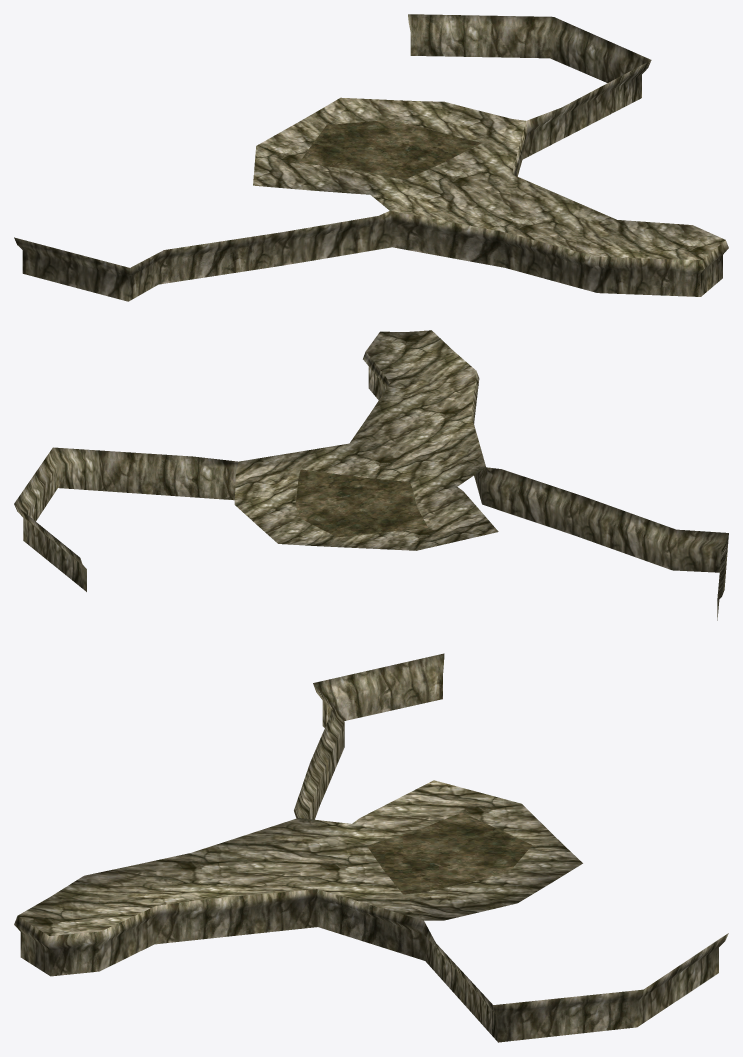
The model's file is CB_NEWPLAYSURFACE_CB_PLAYSURFACE18.fbx.
The picture shows the model from 3 angles, top to bottom: view 1: azimuth 30°, elevation 25°; view 2: azimuth 150°, elevation 25°; view 3: azimuth 270°, elevation 25°; orthographic projection. The views are drawn at different scales.
Visible parts, largest first — view 1: CB_NEWPLAYSURFACE_CB_PLAYSURFACE18; view 2: CB_NEWPLAYSURFACE_CB_PLAYSURFACE18; view 3: CB_NEWPLAYSURFACE_CB_PLAYSURFACE18.
Part boxes in pixels (x1,y1,x2,y2): CB_NEWPLAYSURFACE_CB_PLAYSURFACE18: [14, 14, 728, 301]; CB_NEWPLAYSURFACE_CB_PLAYSURFACE18: [14, 330, 728, 620]; CB_NEWPLAYSURFACE_CB_PLAYSURFACE18: [14, 653, 728, 1042].
Bounding box in the file's own units: 480040 × 26801 × 412407.
Materials: 3 (3 with a texture image).
